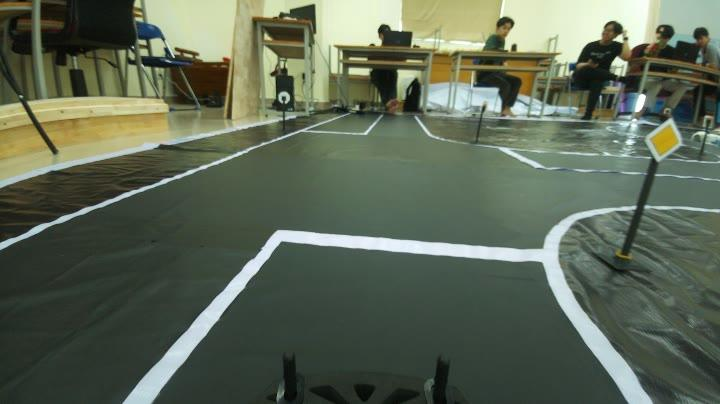priority: (638, 111, 692, 162)
